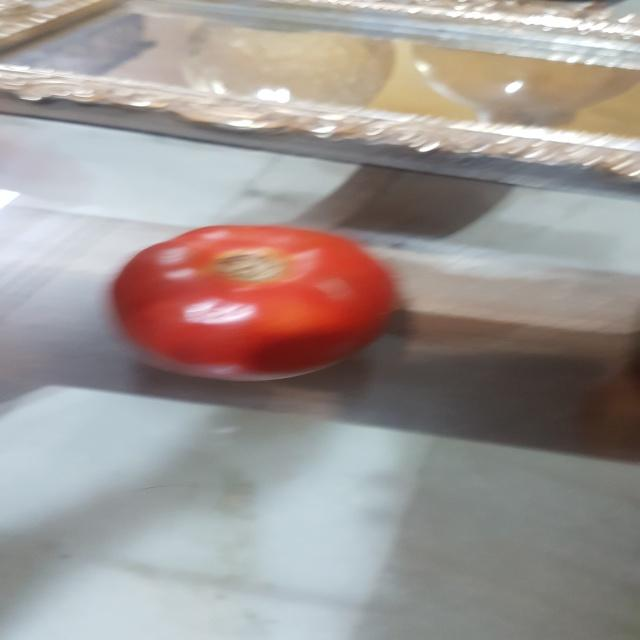tomato: (97, 214, 410, 392)
